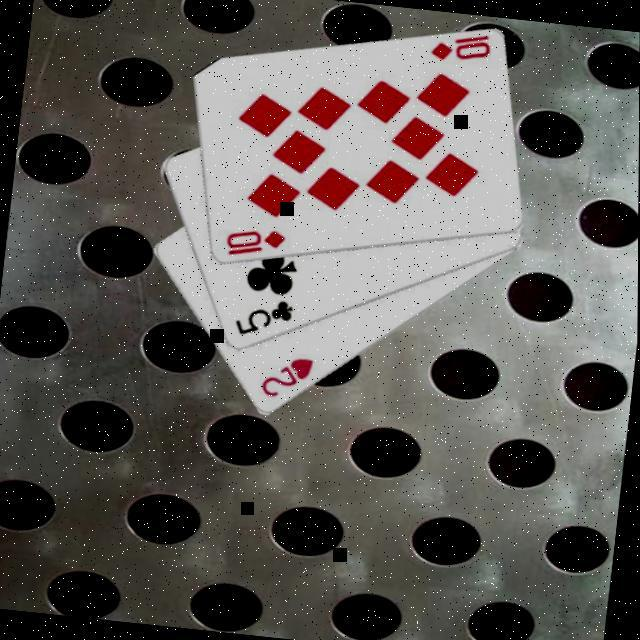10D: (222, 221, 289, 263), (427, 27, 495, 68)
2H: (258, 350, 318, 404)
5C: (231, 292, 297, 343)
